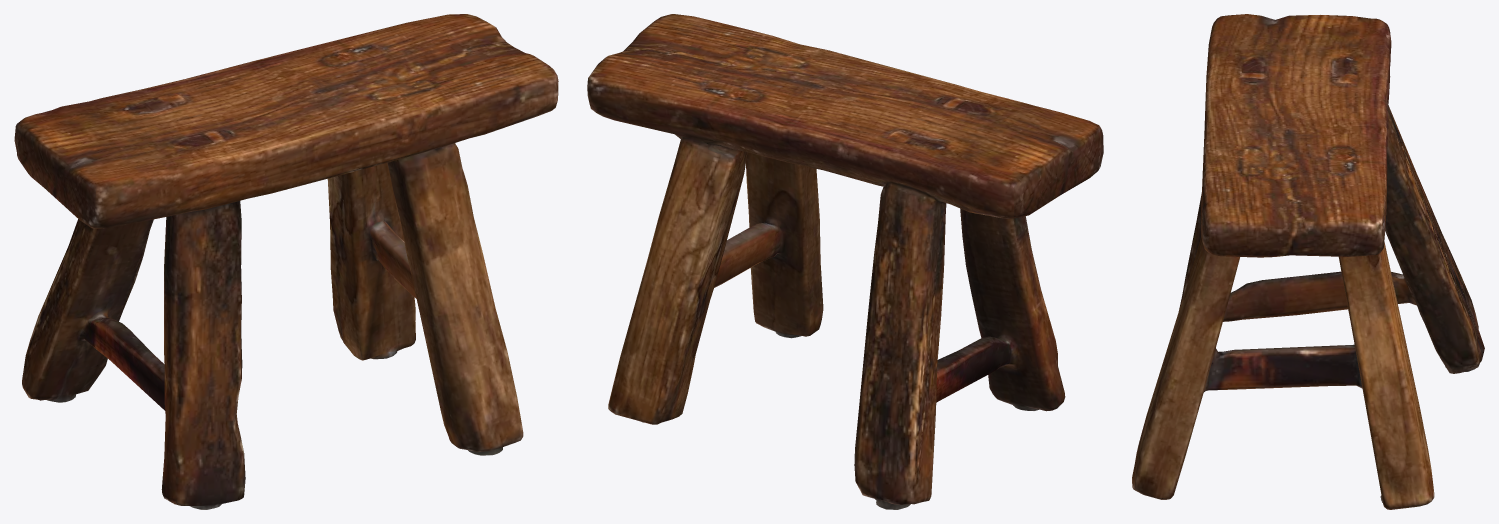
Rendered from wooden_stool_02.glb.
3 views of the same model, side by side, from view 1: azimuth 30°, elevation 25°; view 2: azimuth 150°, elevation 25°; view 3: azimuth 270°, elevation 25° (orthographic). The views are drawn at different scales.
Visible parts, largest first — view 1: wooden_stool_02; view 2: wooden_stool_02; view 3: wooden_stool_02.
Part boxes in pixels (x1,y1,x2,y2): wooden_stool_02: (14, 14, 558, 509); wooden_stool_02: (587, 14, 1103, 509); wooden_stool_02: (1132, 14, 1484, 509).
Size of the model in its own units: 0.265 by 0.1819 by 0.1831.
Materials: 1 (1 with a texture image).
